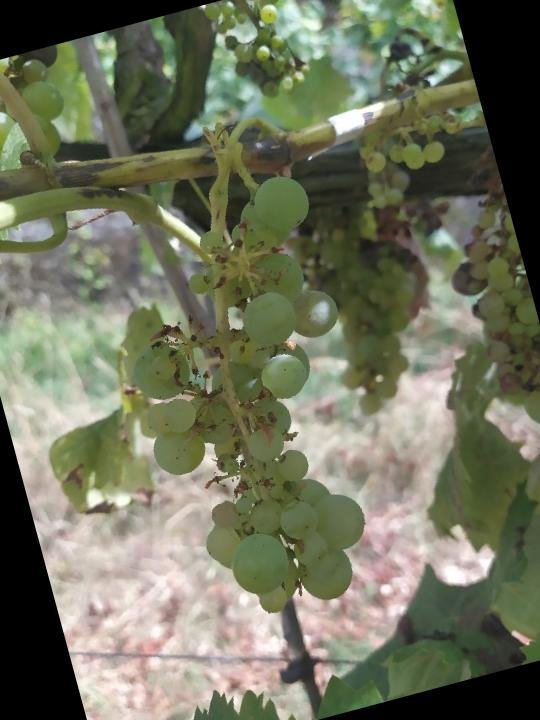grape: (81, 166, 416, 640)
